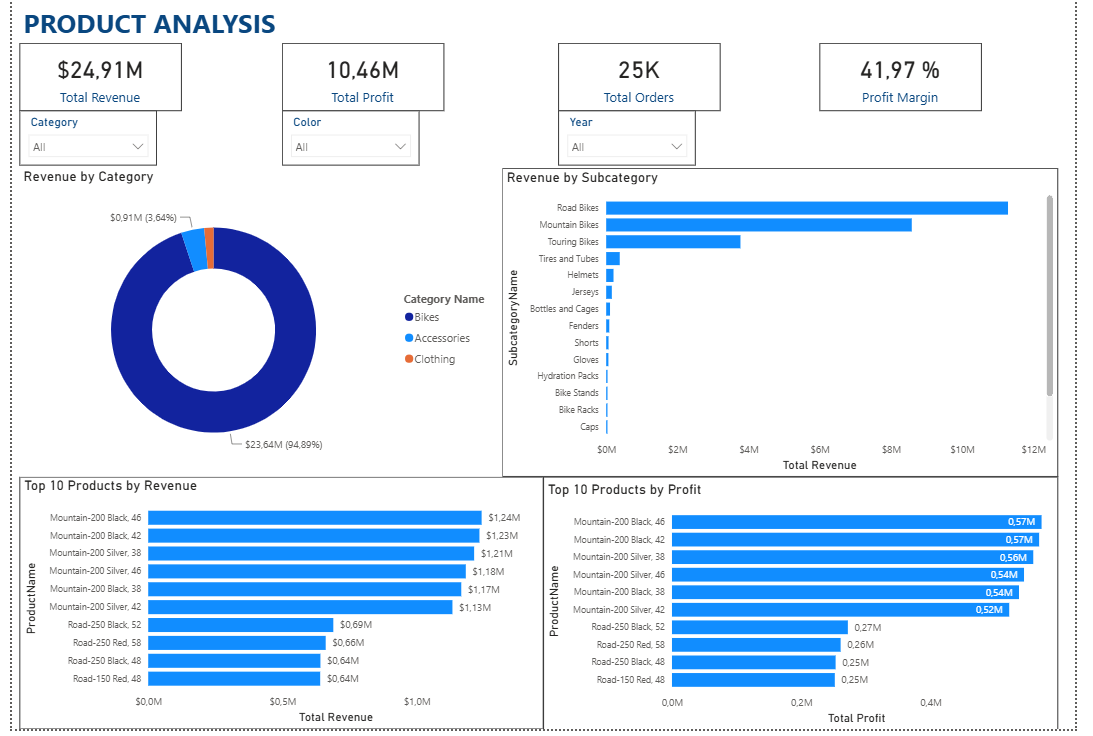

What the dashboard file says about the page in this screenshot:
{"tool":"powerbi","page":{"name":"Product Analysis","canvas":[1300,900],"ordinal":1},"visuals":[{"type":"textbox","box":[9.8,8.6,503.8,52.6],"z":0},{"type":"card","fields":{"Values":["vw_SalesAnalysis.Total Revenue"]},"box":[9.8,61.1,198,83],"z":1000},{"type":"card","fields":{"Values":["vw_SalesAnalysis.Total Profit"]},"box":[330.2,61.1,198,83],"z":2000},{"type":"card","fields":{"Values":["vw_SalesAnalysis.Total Orders"]},"box":[667.7,61.1,198,83],"z":3000},{"type":"card","fields":{"Values":["vw_SalesAnalysis.Profit Margin"]},"box":[988,61.1,198,83],"z":4000},{"type":"slicer","fields":{"Values":["vw_SalesAnalysis.CategoryName"]},"box":[9.8,144.3,168,67],"z":5000},{"type":"clusteredBarChart","title":"Revenue by Subcategory","fields":{"Category":["vw_SalesAnalysis.SubcategoryName"],"Y":["vw_SalesAnalysis.Total Revenue"]},"box":[599.2,214,680.2,377.5],"z":7000},{"type":"clusteredBarChart","title":"Top 10 Products by Revenue","fields":{"Category":["vw_SalesAnalysis.ProductName"],"Y":["vw_SalesAnalysis.Total Revenue"]},"box":[9.2,591.5,640.5,308.8],"z":8000},{"type":"clusteredBarChart","title":"Top 10 Products by Profit","fields":{"Category":["vw_SalesAnalysis.ProductName"],"Y":["vw_SalesAnalysis.Total Profit"]},"box":[649.6,591.5,629.8,309.4],"z":9000},{"type":"slicer","fields":{"Values":["vw_SalesAnalysis.ProductColor"]},"box":[330.2,144.3,168,67],"z":10000},{"type":"slicer","fields":{"Values":["Calendar.Year"]},"box":[667.7,144.3,168,67],"z":11000},{"type":"donutChart","title":"Revenue by Category","fields":{"Category":["vw_SalesAnalysis.CategoryName"],"Y":["vw_SalesAnalysis.Total Revenue"]},"box":[9.2,214,590,377.5],"z":11001}]}

Visuals, with their boxes in screenshot pixels (x1, y1, x2, y2), scaled from the page's 1300x900 canvas onto the 1093x736 screenshot:
textbox: bbox=(8, 7, 432, 50)
card - vw_SalesAnalysis.Total Revenue: bbox=(8, 50, 175, 118)
card - vw_SalesAnalysis.Total Profit: bbox=(278, 50, 444, 118)
card - vw_SalesAnalysis.Total Orders: bbox=(561, 50, 728, 118)
card - vw_SalesAnalysis.Profit Margin: bbox=(831, 50, 997, 118)
slicer - vw_SalesAnalysis.CategoryName: bbox=(8, 118, 149, 173)
"Revenue by Subcategory" clusteredBarChart: bbox=(504, 175, 1076, 484)
"Top 10 Products by Revenue" clusteredBarChart: bbox=(8, 484, 546, 735)
"Top 10 Products by Profit" clusteredBarChart: bbox=(546, 484, 1076, 735)
slicer - vw_SalesAnalysis.ProductColor: bbox=(278, 118, 419, 173)
slicer - Calendar.Year: bbox=(561, 118, 703, 173)
"Revenue by Category" donutChart: bbox=(8, 175, 504, 484)
